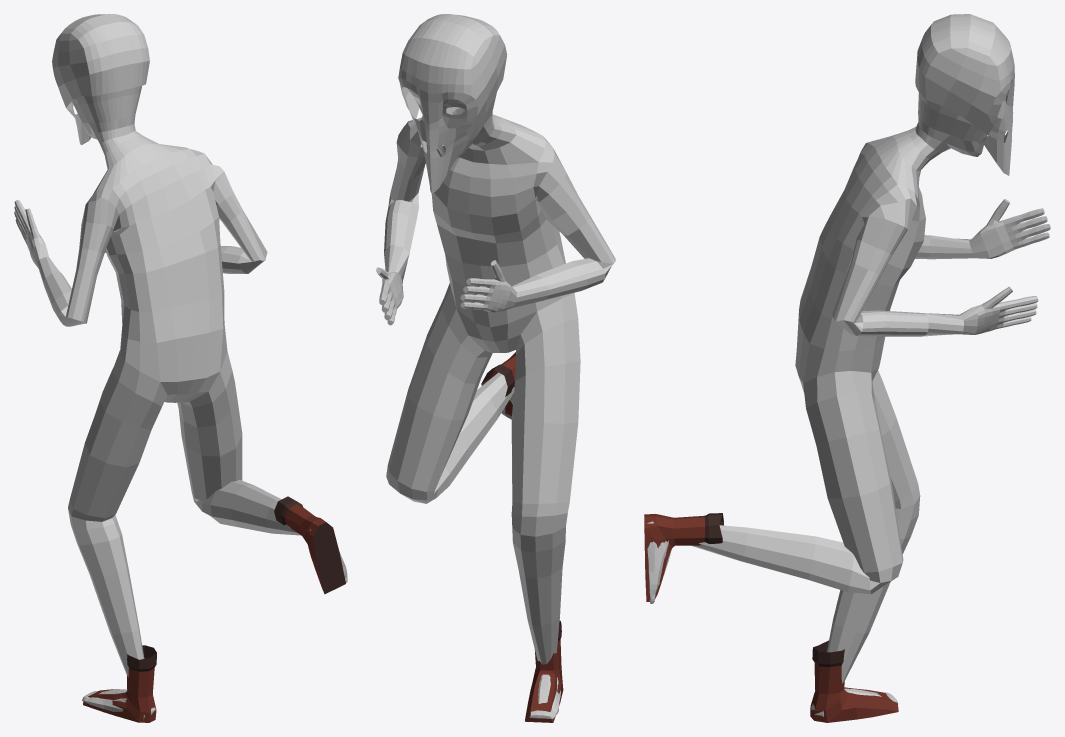
File: correr_000156.obj
3 views of the same model, side by side, from view 1: azimuth 30°, elevation 25°; view 2: azimuth 150°, elevation 25°; view 3: azimuth 270°, elevation 25° (orthographic). The views are drawn at different scales.
Visible parts, largest first — view 1: Plane.002_Plane.001, Plane.003, Plane.004; view 2: Plane.002_Plane.001, Plane.004, Plane.003; view 3: Plane.002_Plane.001, Plane.004, Plane.003.
Part boxes in pixels (x1,y1,x2,y2): Plane.002_Plane.001: (14, 14, 347, 719); Plane.003: (274, 496, 345, 594); Plane.004: (83, 645, 156, 722); Plane.002_Plane.001: (376, 14, 615, 718); Plane.004: (525, 620, 563, 722); Plane.003: (481, 352, 515, 415); Plane.002_Plane.001: (647, 14, 1050, 716); Plane.004: (810, 640, 898, 722); Plane.003: (644, 513, 723, 601).
Bounding box in the file's own units: 2.13 × 6.57 × 3.41.
